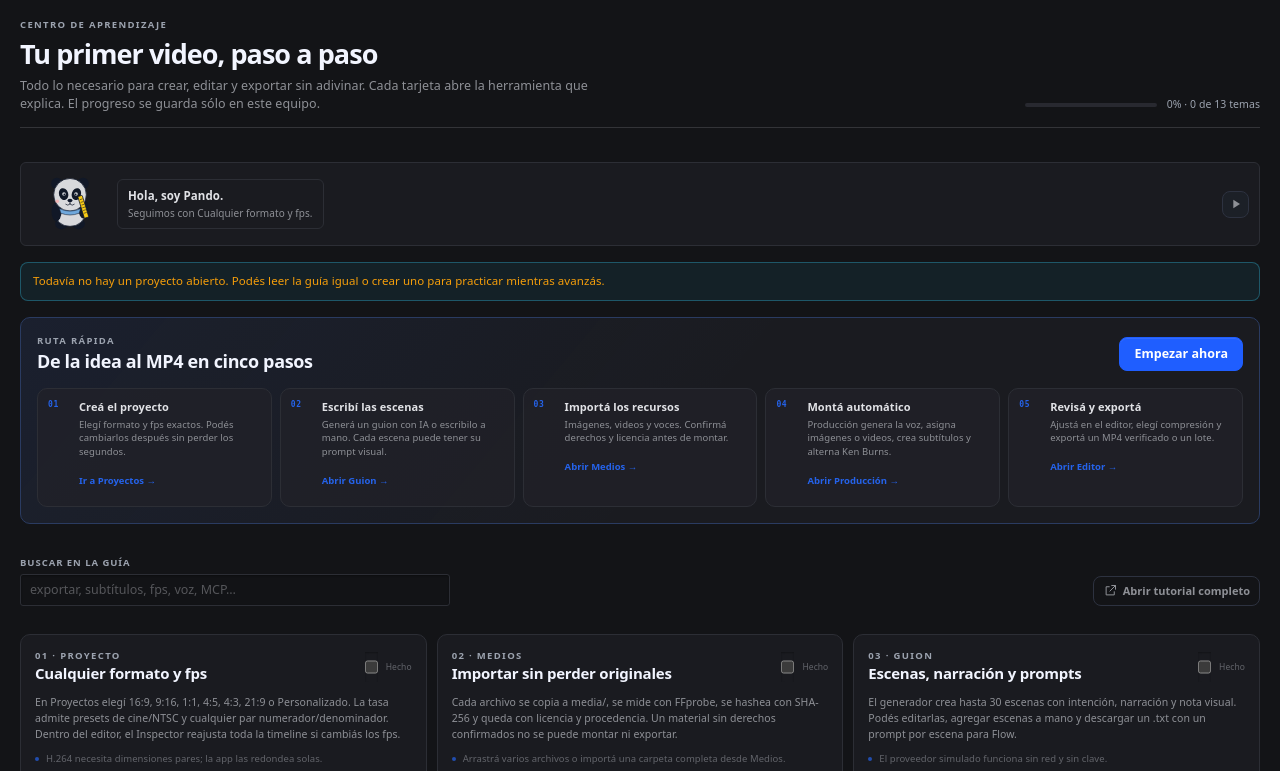
centro de aprendizaje › filtra la guía y guarda el progreso local
Type "CRF" into the search field labelled "Buscar en la guía".
click(235, 590); type("CRF")  # box [20,574,450,606]
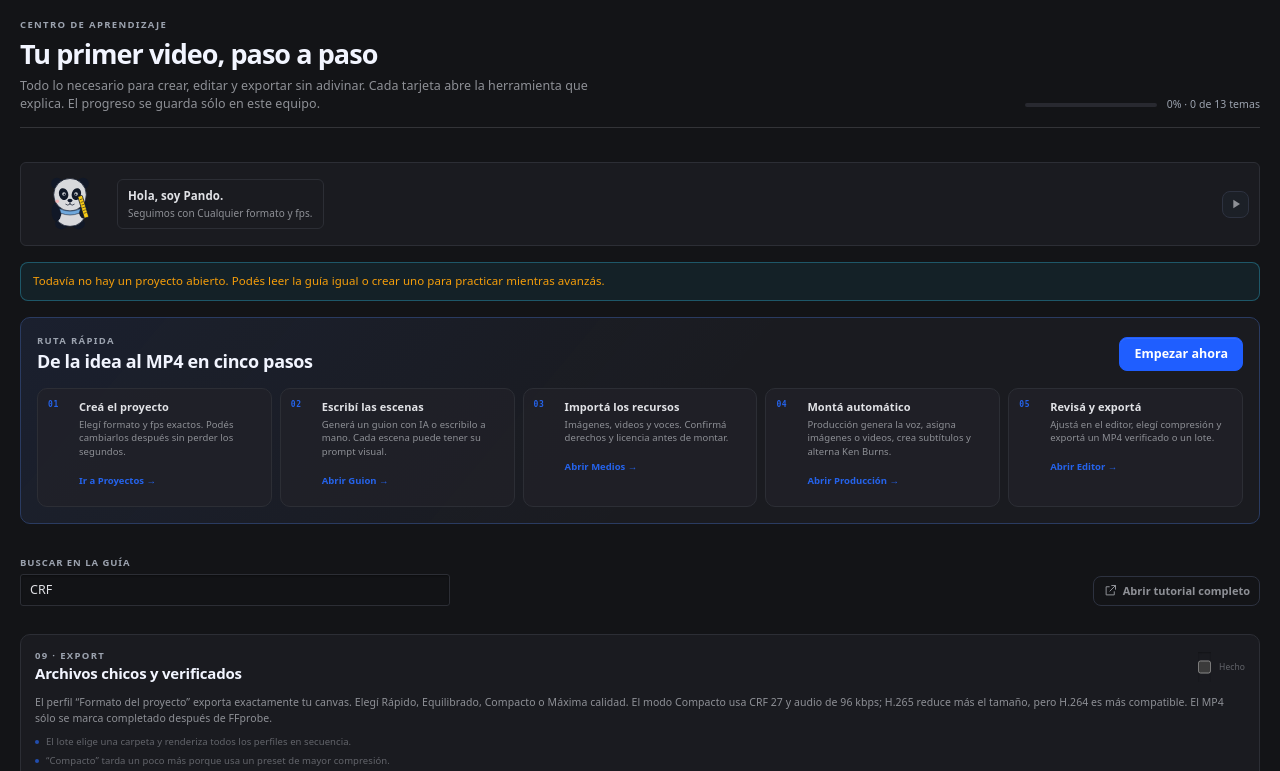
Expected: the heading "Archivos chicos y verificados" is shown, [35,663,242,684]
Click the checkbox labelled "Hecho".
click(1205, 667)  # box [1198,652,1211,682]
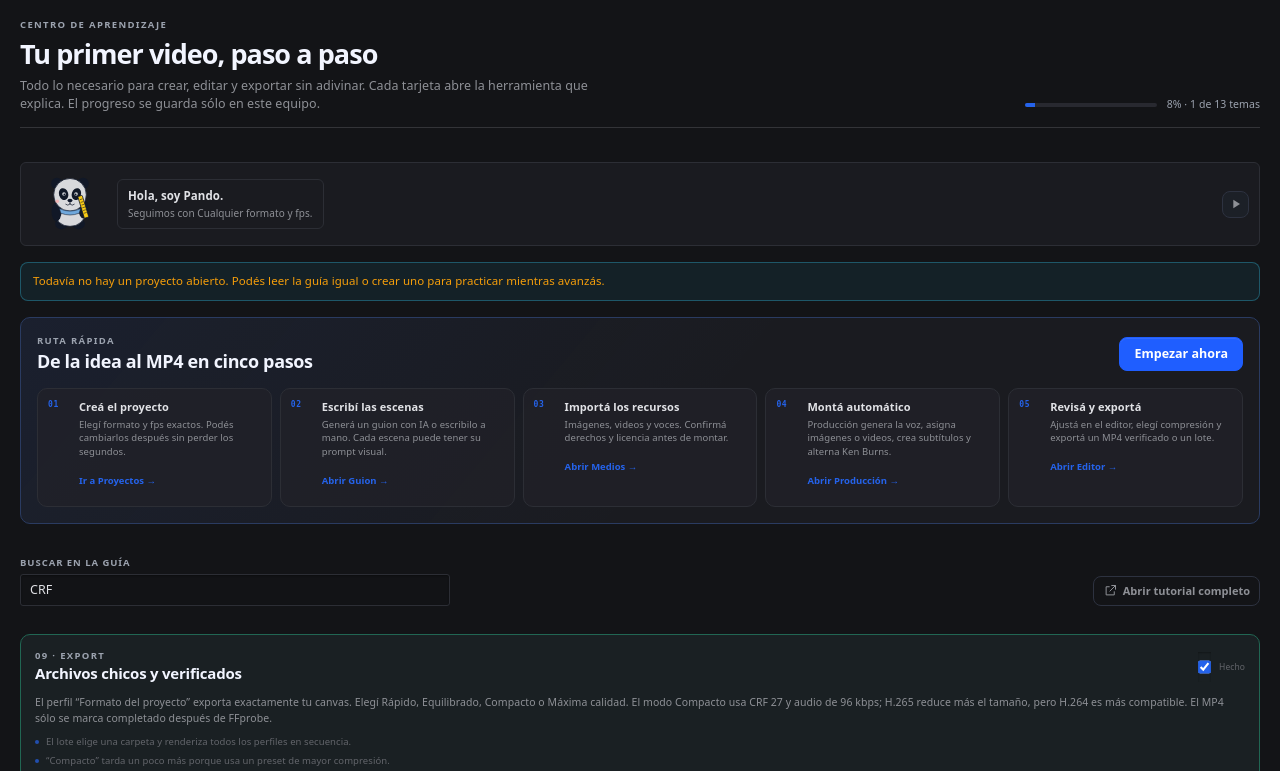
Now the text "8% · 1 de 13 temas" is shown, box [1167,97,1260,113]
